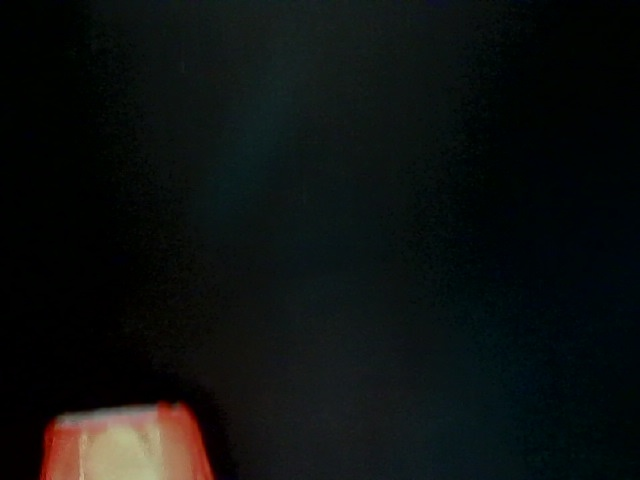CYLJ: (392, 381, 500, 477)
